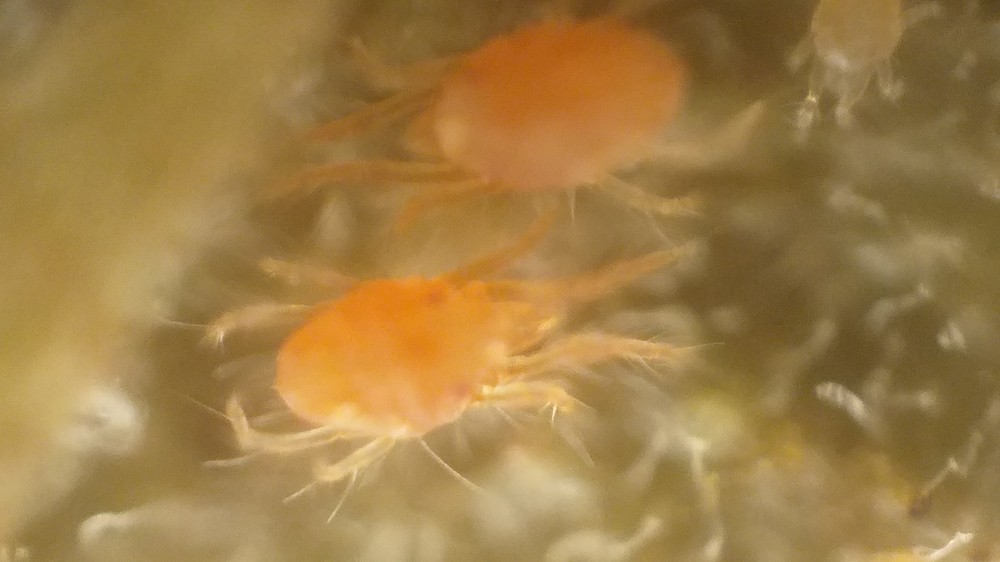Aracnido Rojo: (208, 214, 715, 487), (279, 16, 736, 207), (781, 1, 949, 131)
